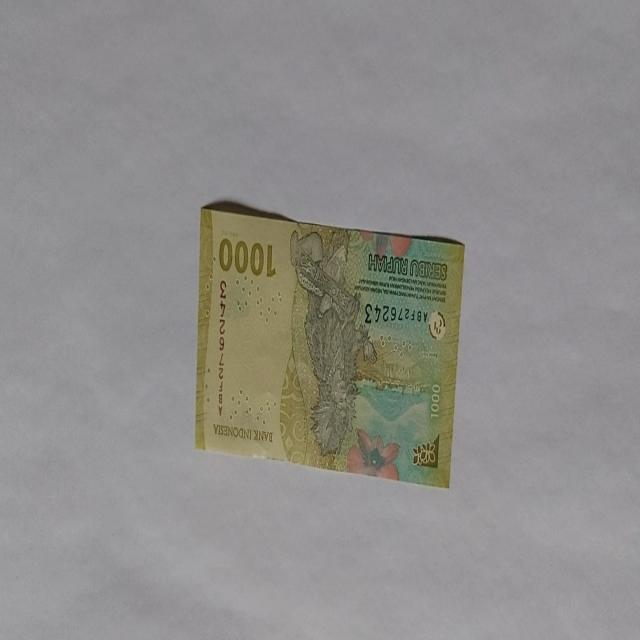seribu rupiah kertas: (194, 203, 465, 489)
